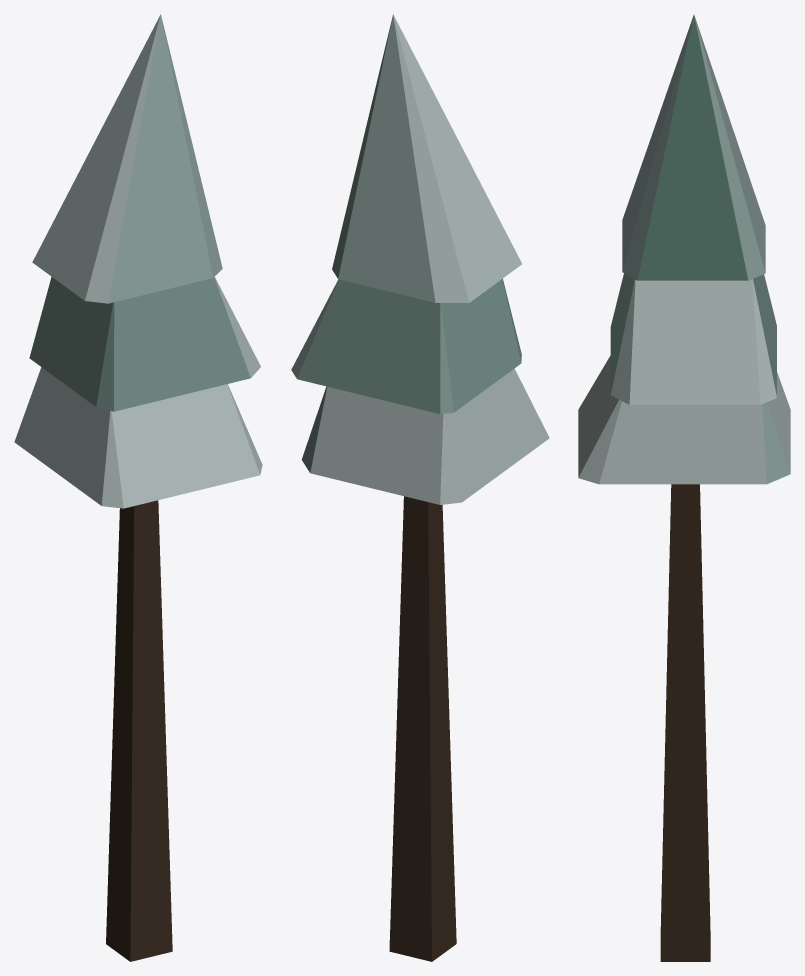
The model's file is sw_pine_giant.glb.
3 renders of one model, left to right at view 1: azimuth 30°, elevation 25°; view 2: azimuth 150°, elevation 25°; view 3: azimuth 270°, elevation 25°, orthographic. The views are drawn at different scales.
Visible parts, largest first — view 1: sw_pine_giant; view 2: sw_pine_giant; view 3: sw_pine_giant.
Part boxes in pixels (bbox=[...]): sw_pine_giant: bbox=[14, 14, 262, 961]; sw_pine_giant: bbox=[291, 14, 549, 961]; sw_pine_giant: bbox=[578, 14, 790, 961].
Bounding box in the file's own units: 2.79 × 14 × 2.84.
